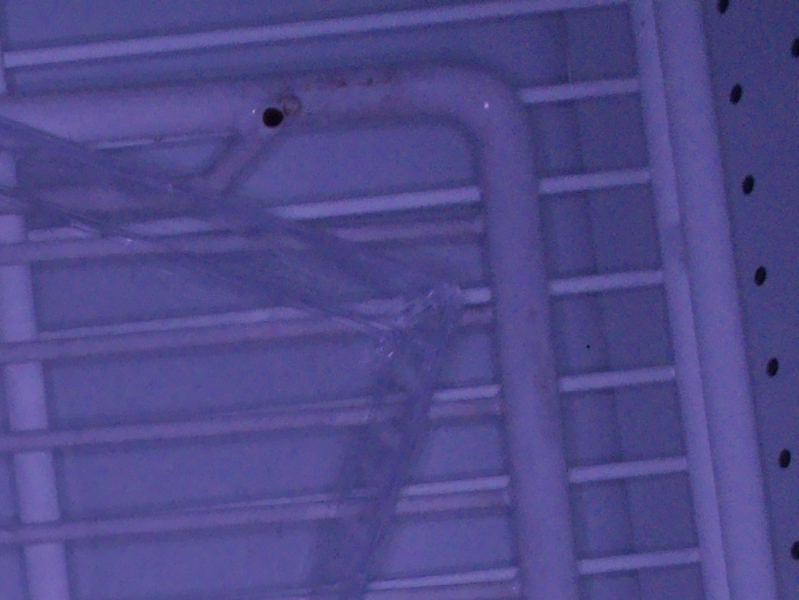plate: (1, 114, 464, 600)
